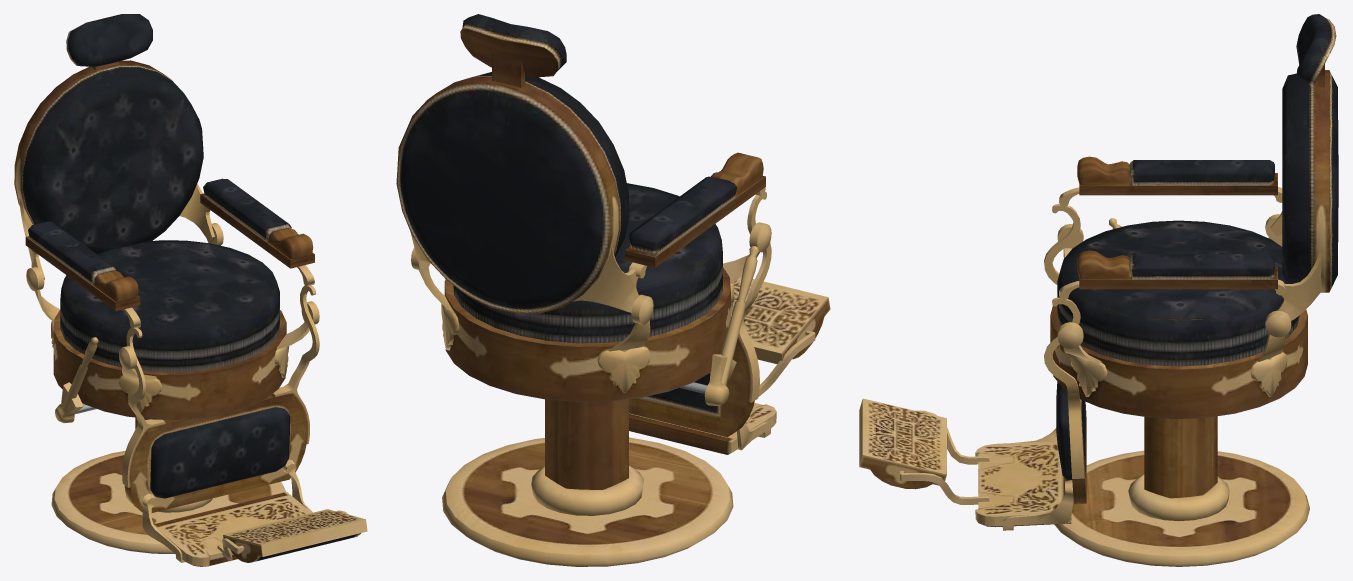
File: BarberShopChair_01.glb
The picture shows the model from 3 angles, left to right: view 1: azimuth 30°, elevation 25°; view 2: azimuth 150°, elevation 25°; view 3: azimuth 270°, elevation 25°; orthographic projection. The views are drawn at different scales.
Visible parts, largest first — view 1: BarberShopChair_01; view 2: BarberShopChair_01; view 3: BarberShopChair_01.
Boxes of the visible parts, box(x1,y1,x2,y2) form: BarberShopChair_01: box(14, 14, 367, 566); BarberShopChair_01: box(396, 14, 830, 566); BarberShopChair_01: box(859, 14, 1338, 566).
Size of the model in its own units: 0.7565 by 1.49 by 1.33.
Materials: 1 (1 with a texture image).
